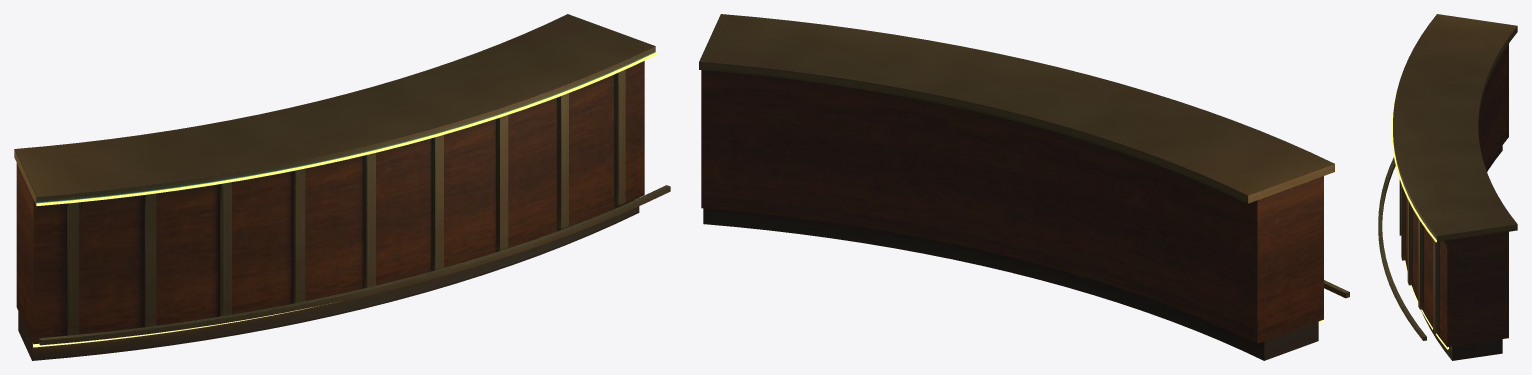
Rendered from cantina_bar.glb.
The picture shows the model from 3 angles, left to right: view 1: azimuth 30°, elevation 25°; view 2: azimuth 150°, elevation 25°; view 3: azimuth 270°, elevation 25°; orthographic projection. The views are drawn at different scales.
Visible parts, largest first — view 1: cantina_bar, cantina_bar_cantina_glow_teal; view 2: cantina_bar; view 3: cantina_bar, cantina_bar_cantina_glow_teal, cantina_bar_cantina_glow_amber.
Boxes of the visible parts, <box> form: cantina_bar: <box>14,14,670,360</box>; cantina_bar_cantina_glow_teal: <box>36,52,656,205</box>; cantina_bar: <box>699,14,1349,360</box>; cantina_bar: <box>1378,14,1517,360</box>; cantina_bar_cantina_glow_teal: <box>1391,91,1436,242</box>; cantina_bar_cantina_glow_amber: <box>1405,260,1448,349</box>.
Size of the model in its own units: 4.01 by 1.05 by 1.05.
Materials: 3 (1 with a texture image).
